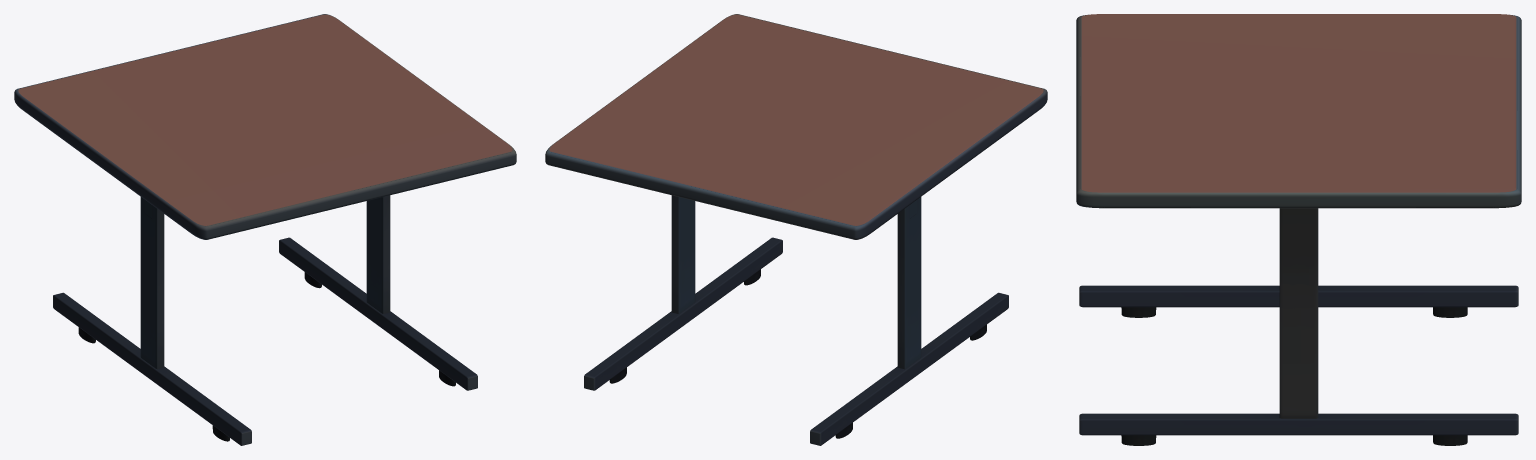
File: table.glb
3 views of the same model, side by side, from view 1: azimuth 30°, elevation 25°; view 2: azimuth 150°, elevation 25°; view 3: azimuth 270°, elevation 25° (orthographic). The views are drawn at different scales.
Parts seen in each view (by area): view 1: node_id46; view 2: node_id46; view 3: node_id46.
Part boxes in pixels (box(x1,y1,x2,y2)): node_id46: box(14, 14, 516, 445); node_id46: box(545, 14, 1047, 445); node_id46: box(1076, 14, 1521, 445).
Size of the model in its own units: 0.262 by 0.1871 by 0.2729.
Materials: 1 (1 with a texture image).
